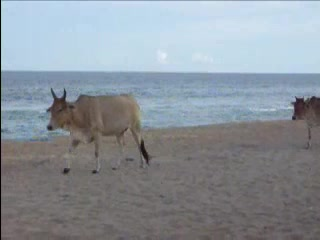cow: (47, 87, 152, 175)
